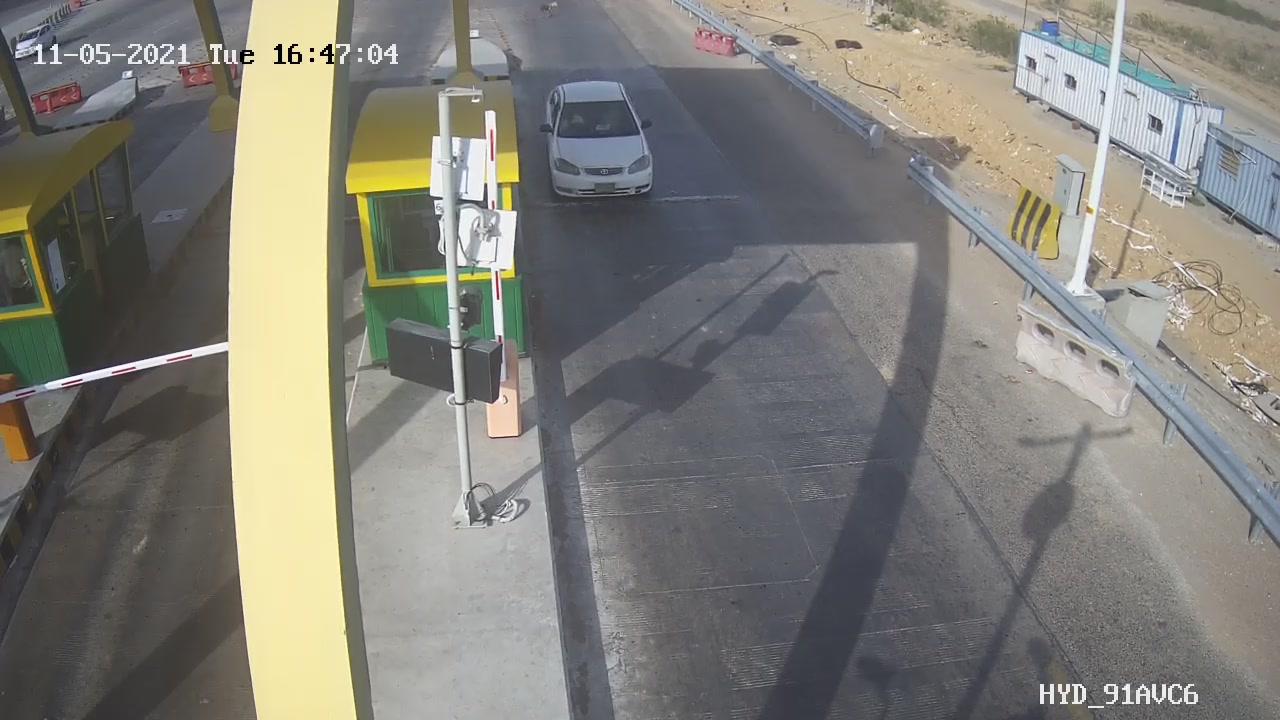F1: (524, 69, 672, 209)
